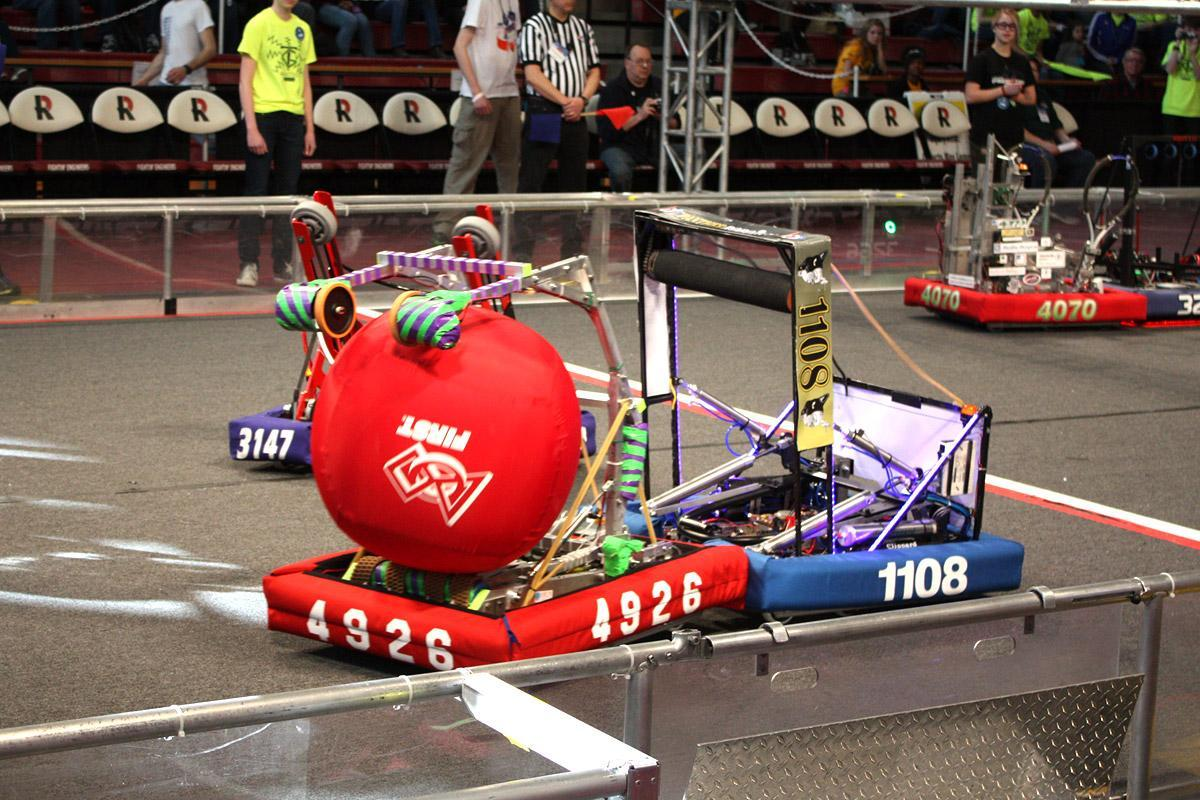robot: (257, 244, 753, 683), (628, 203, 1034, 609), (224, 188, 602, 487), (900, 127, 1151, 341), (1007, 142, 1200, 333)
